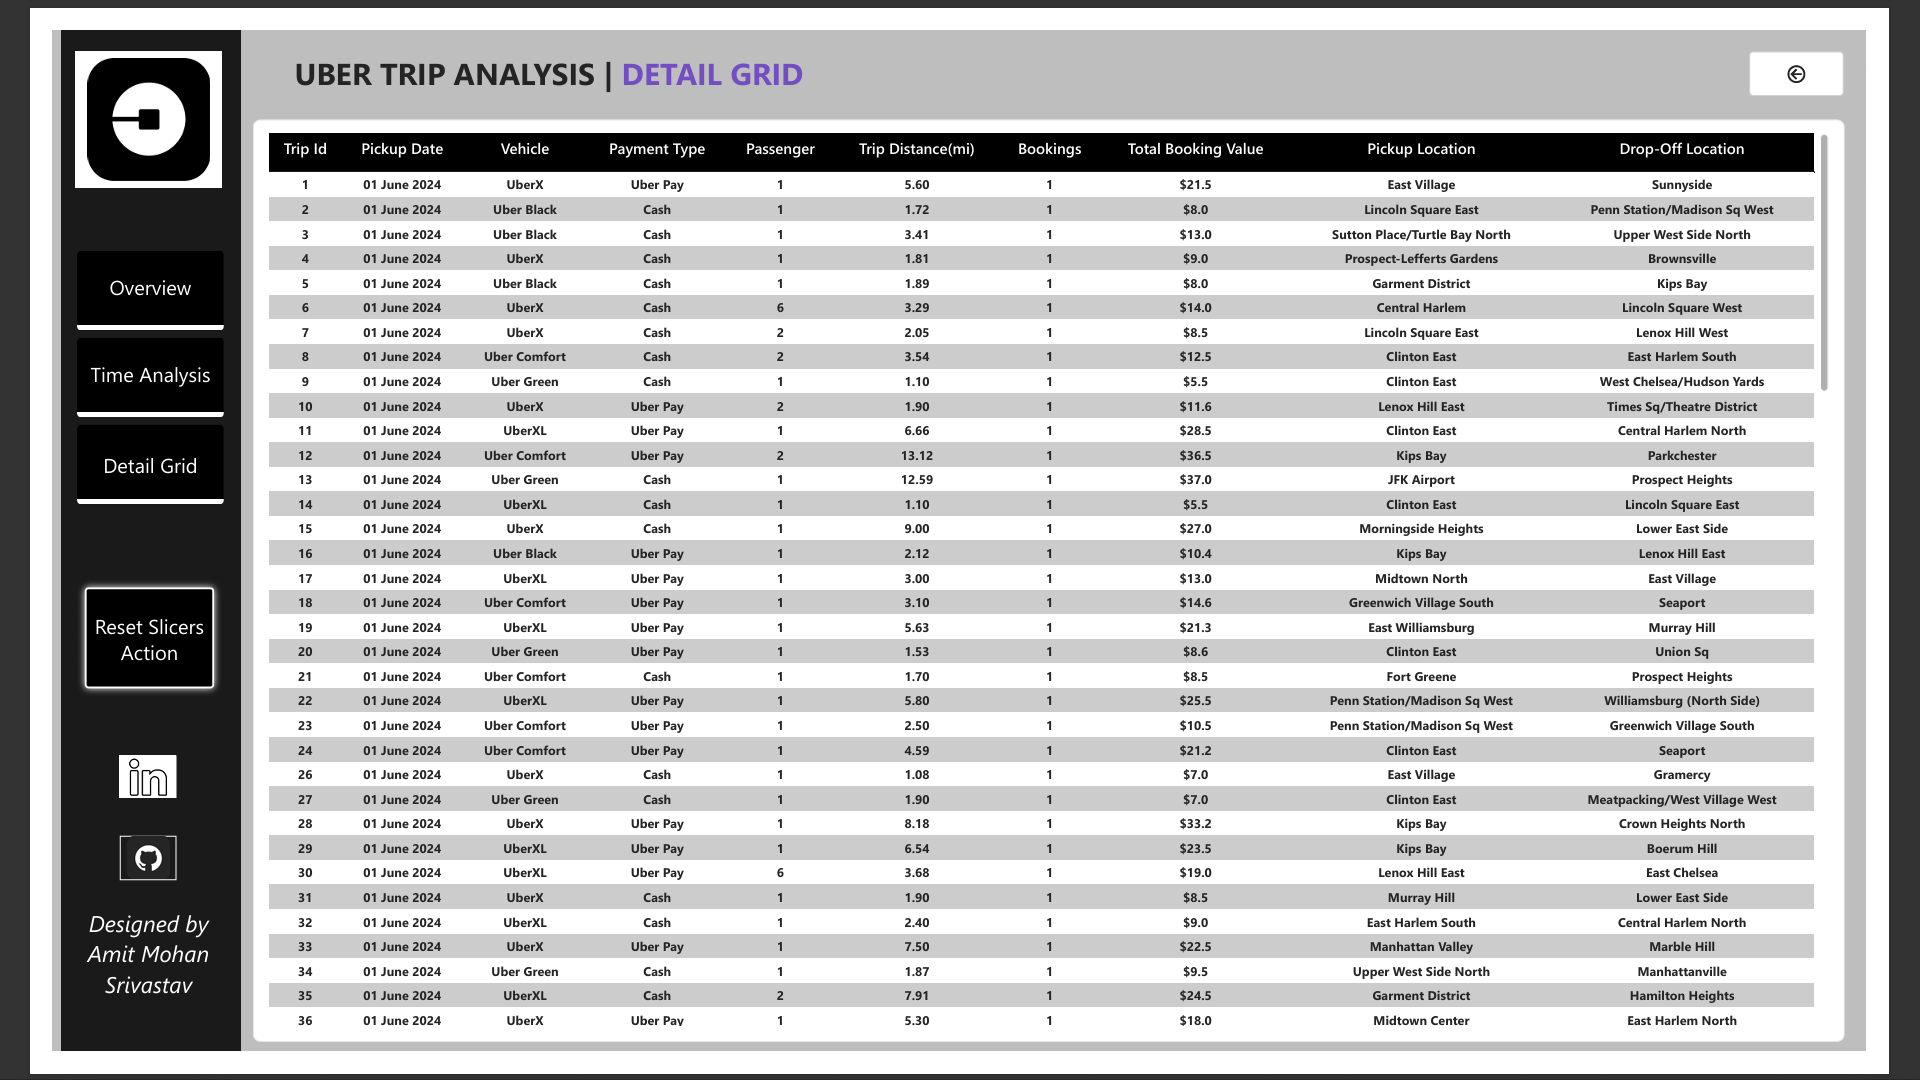

The dashboard page shown, as its layout file describes it:
{"tool":"powerbi","page":{"name":"Detail Grid","canvas":[1920,1080],"ordinal":2},"visuals":[{"type":"shape","box":[9.3,0,190,1080],"z":0},{"type":"image","box":[70.6,767.3,59.7,45.2],"z":0,"group":"g1"},{"type":"textbox","box":[256,22,650,64],"z":1000},{"type":"image","box":[70.6,852.4,59.7,47.1],"z":1000,"group":"g1"},{"type":"tableEx","fields":{"Values":["Trip Details.trip_id","Trip Details.pick_up_date","Trip Details.vehicle","Trip Details.payment_type","Trip Details.passenger_count","My_Measures.Total Trip Distance","My_Measures.Total Bookings","My_Measures.Total Booking Value","Trip Details.Pickup Location","Trip Details.Drop-Off Location"]},"box":[211.7,94.1,1684.8,975.4],"z":2000},{"type":"actionButton","box":[1795.6,22.4,100.6,46.6],"z":3000},{"type":"group","id":"g1","title":"Group 1","box":[70.6,767.3,59.7,132.1],"z":4000},{"type":"image","box":[24.2,22.4,154.6,143.4],"z":5000},{"type":"pageNavigator","box":[26.1,232.8,154.6,268.2],"z":6000},{"type":"actionButton","box":[26.1,581.1,152.7,122.9],"z":7000},{"type":"textbox","box":[34.4,928.4,134.2,120.8],"z":8000}]}

Visuals, with their boxes in screenshot pixels (x1, y1, x2, y2), scaled from the page's 1920x1080 canvas onto the 1920x1080 screenshot:
shape: bbox=[9, 0, 199, 1079]
image: bbox=[71, 767, 130, 812]
textbox: bbox=[256, 22, 906, 86]
image: bbox=[71, 852, 130, 900]
tableEx - Trip Details.trip_id x Trip Details.pick_up_date: bbox=[212, 94, 1896, 1070]
actionButton: bbox=[1796, 22, 1896, 69]
"Group 1" group: bbox=[71, 767, 130, 899]
image: bbox=[24, 22, 179, 166]
pageNavigator: bbox=[26, 233, 181, 501]
actionButton: bbox=[26, 581, 179, 704]
textbox: bbox=[34, 928, 169, 1049]
